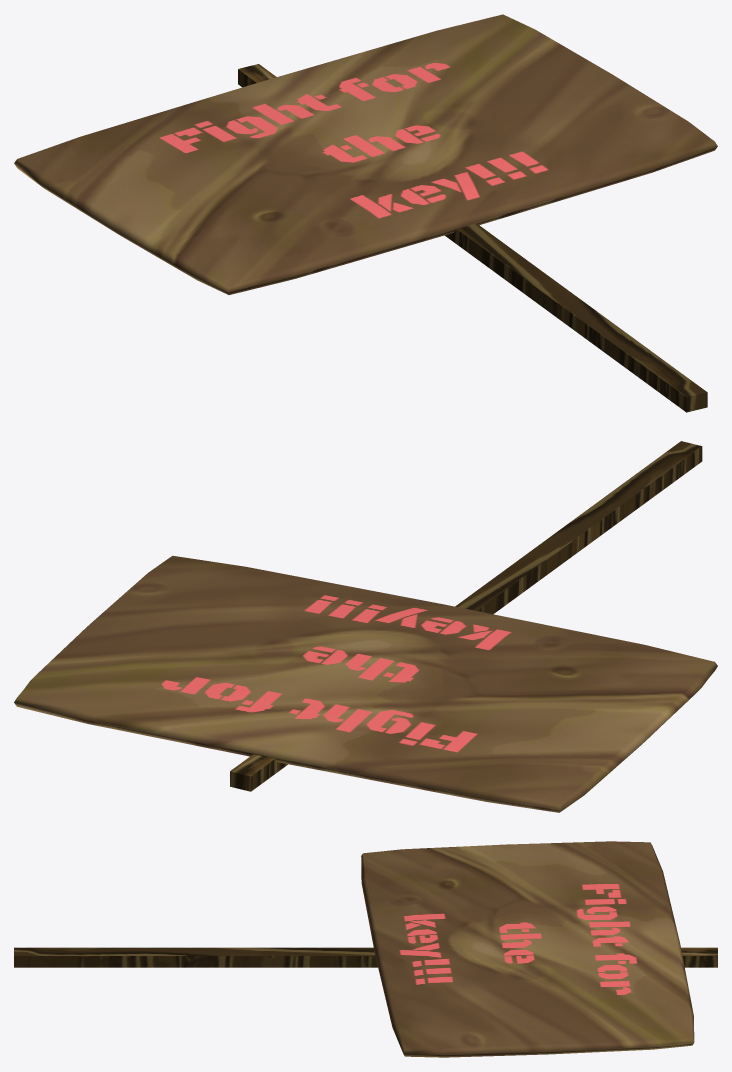
Rendered from Cartel.glb.
The picture shows the model from 3 angles, top to bottom: view 1: azimuth 30°, elevation 25°; view 2: azimuth 150°, elevation 25°; view 3: azimuth 270°, elevation 25°; orthographic projection. The views are drawn at different scales.
Visible parts, largest first — view 1: pCube3, pCube2; view 2: pCube3, pCube2; view 3: pCube3, pCube2.
Part boxes in pixels (x1,y1,x2,y2): pCube3: [14, 14, 717, 294]; pCube2: [238, 64, 707, 412]; pCube3: [14, 555, 717, 812]; pCube2: [230, 441, 702, 791]; pCube3: [361, 841, 694, 1057]; pCube2: [14, 947, 717, 967].
Bounding box in the file's own units: 0.0958 × 0.00502 × 0.1355.
Materials: 2 (2 with a texture image).
